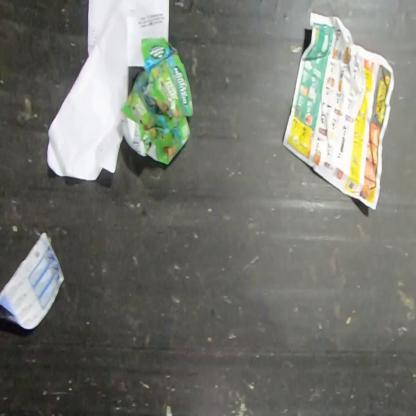cardboard: (118, 36, 194, 166)
